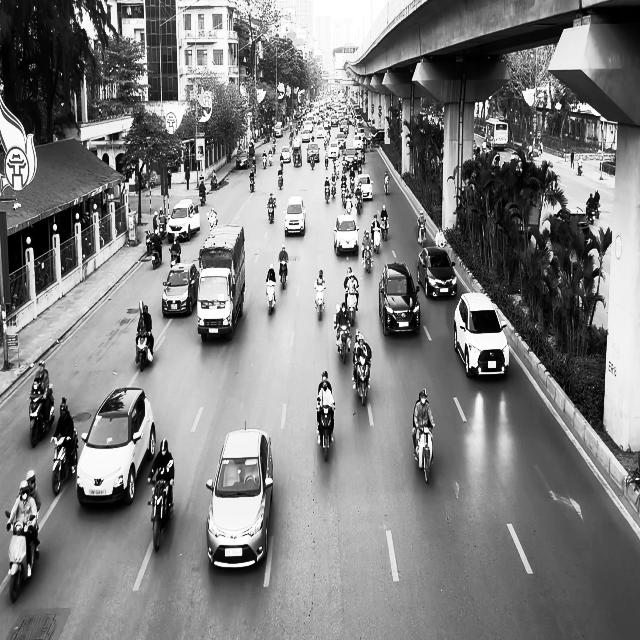bus: (485, 118, 508, 150)
car: (205, 422, 274, 569), (76, 386, 156, 507), (453, 291, 509, 378), (378, 261, 420, 337), (417, 246, 457, 299), (162, 262, 199, 317), (167, 198, 200, 242), (334, 213, 359, 256), (283, 195, 306, 236), (236, 150, 249, 168)
motorbike: (5, 510, 40, 602), (147, 476, 174, 552), (51, 429, 78, 495), (29, 384, 54, 448), (412, 424, 434, 484), (316, 398, 335, 462), (352, 351, 371, 406), (135, 328, 153, 372), (335, 320, 351, 364), (314, 285, 325, 321), (266, 278, 276, 315), (151, 242, 162, 269), (278, 260, 288, 288), (169, 245, 181, 268), (266, 198, 276, 223), (207, 209, 217, 231)
truck: (197, 224, 245, 342)
